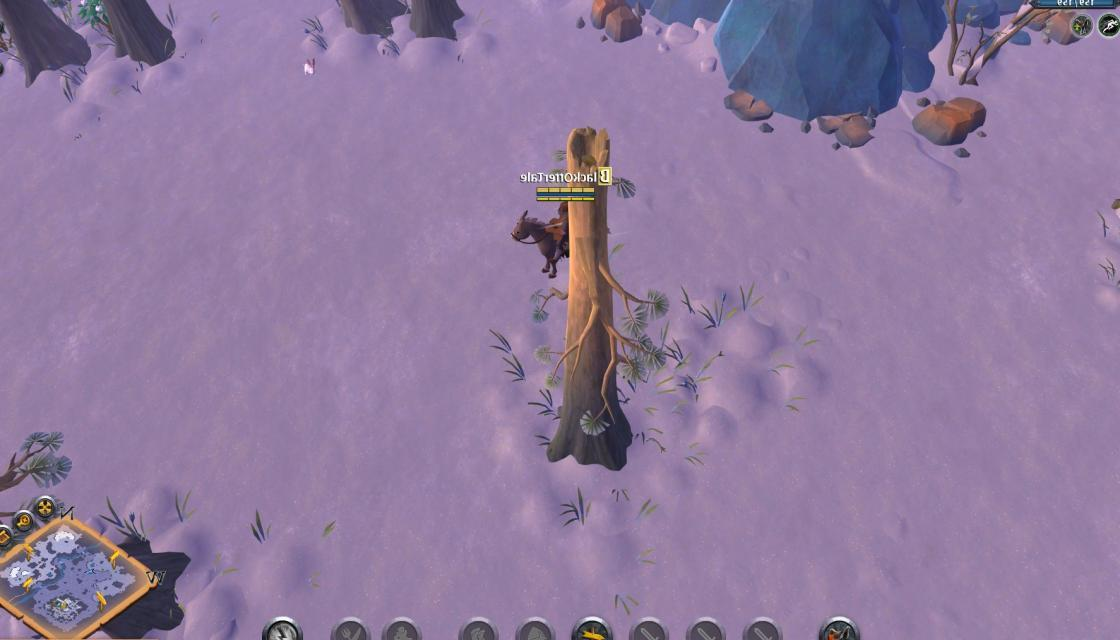limestone: (911, 93, 988, 148), (584, 0, 649, 43), (1020, 5, 1086, 44)
